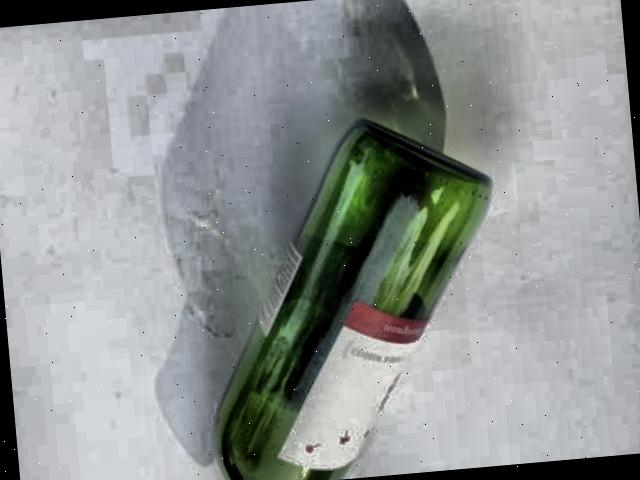Bottles: (138, 94, 514, 480)
